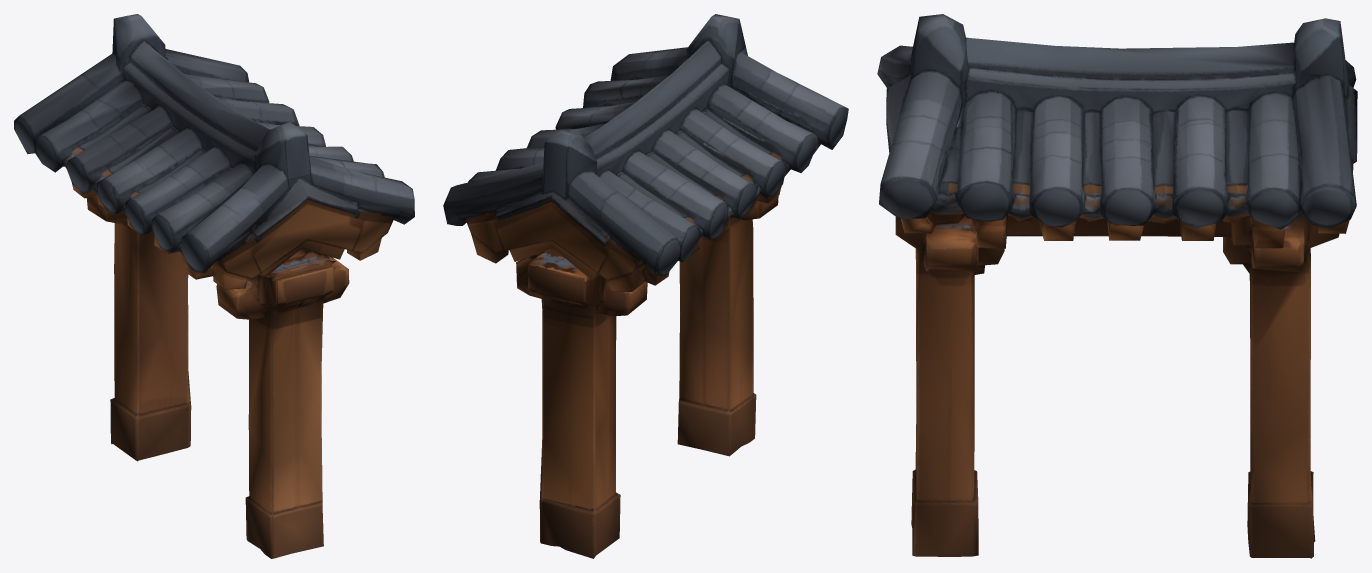
Rendered from eave_low.glb.
3 views of the same model, side by side, from view 1: azimuth 30°, elevation 25°; view 2: azimuth 150°, elevation 25°; view 3: azimuth 270°, elevation 25° (orthographic). The views are drawn at different scales.
Visible parts, largest first — view 1: low; view 2: low; view 3: low.
Boxes of the visible parts, x1=… form: low: x1=14, y1=14, x2=414, y2=558; low: x1=443, y1=14, x2=848, y2=558; low: x1=877, y1=14, x2=1357, y2=558.
Bounding box in the file's own units: 0.5451 × 1 × 0.8291.
Materials: 1 (1 with a texture image).
